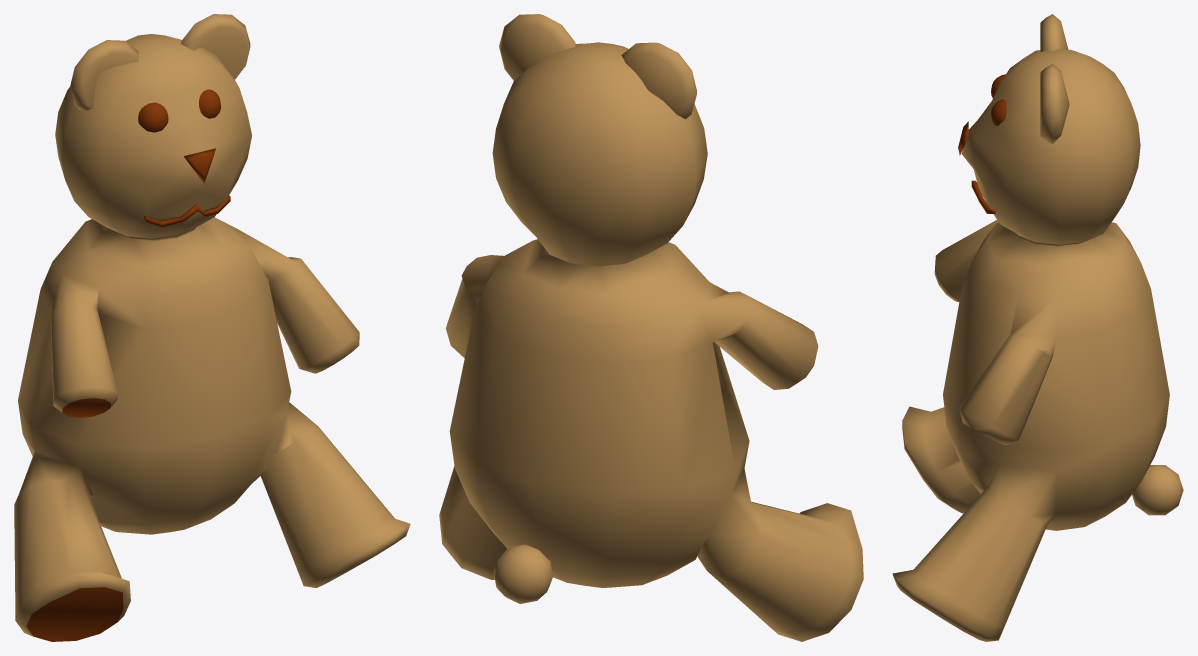
File: teddybear.dae
3 renders of one model, left to right at view 1: azimuth 30°, elevation 25°; view 2: azimuth 150°, elevation 25°; view 3: azimuth 270°, elevation 25°, orthographic. The views are drawn at different scales.
Parts seen in each view (by area): view 1: Cylinder; view 2: Cylinder; view 3: Cylinder.
Part boxes in pixels (<box>): Cylinder: <box>14,14,410,641</box>; Cylinder: <box>439,14,863,641</box>; Cylinder: <box>892,14,1183,641</box>.
Size of the model in its own units: 3.05 by 2.13 by 4.31.
